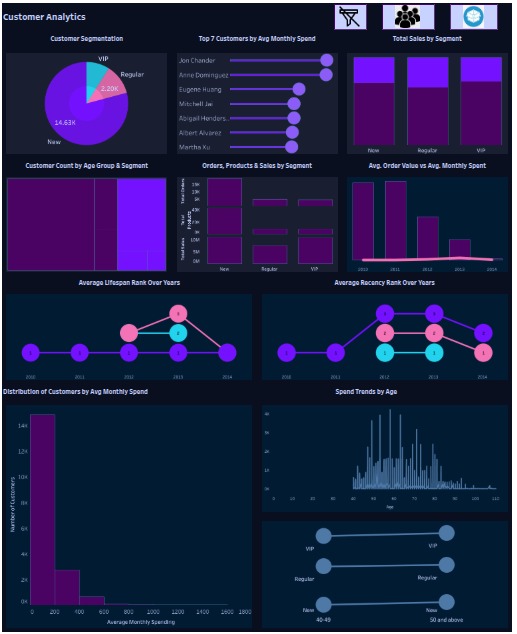

The page's visual inventory and layout, read from the dashboard file:
{"tool":"tableau","page":{"name":"Customer Analytics","canvas":[1000,1000],"units":"permille","ordinal":0},"visuals":[{"type":"text","box":[27.2,23.7,612.3,45.7]},{"type":"dashboard-object","box":[639.5,23.7,66,45.7]},{"type":"blank","box":[705.6,23.7,22.8,45.7]},{"type":"dashboard-object","box":[728.4,23.7,103.1,45.7]},{"type":"blank","box":[831.5,23.7,24.1,45.7]},{"type":"dashboard-object","box":[855.6,23.7,92.6,45.7]},{"type":"text","box":[725.9,25.8,243.2,28]},{"type":"text","box":[725.9,53.8,243.2,23.7]},{"type":"text","box":[27.2,69.4,315.4,28]},{"type":"text","box":[342.6,69.4,315.4,28]},{"type":"text","box":[658,69.4,314.8,28]},{"type":"filter","title":"Total Sales by Customer Segment","param":"[federated.0bdxgvo0l8nm6h0zmc07n1xj7t6c].[none:age_group:nk]","box":[725.9,77.4,243.2,37.6]},{"type":"worksheet","title":"Customer Segmentation by Membership","mark":"Pie","cols":["Calculation_0427751633473537","Calculation_0427751633473537"],"box":[27.2,97.3,315.4,178.5]},{"type":"worksheet","title":"Top 7 Customers with  Highest Lifespan","mark":"Bar","rows":["customer_key","customer_name"],"cols":["avg_monthly_spend","avg_monthly_spend"],"box":[342.6,97.3,315.4,178.5]},{"type":"worksheet","title":"Total Sales by Customer Segment","mark":"Automatic","cols":["customer_segment"],"box":[658,97.3,314.8,178.5]},{"type":"filter","title":"Total Sales by Customer Segment","param":"[federated.0bdxgvo0l8nm6h0zmc07n1xj7t6c].[none:customer_segment:nk]","box":[725.9,115,243.2,48.4]},{"type":"blank","box":[725.9,163.4,243.2,17.2]},{"type":"text","box":[725.9,180.6,243.2,18.3]},{"type":"filter","title":"Total Sales by Customer Segment","param":"[federated.0bdxgvo0l8nm6h0zmc07n1xj7t6c].[yr:last_order_date:ok]","box":[725.9,198.9,243.2,69.4]},{"type":"text","box":[27.2,275.8,315.4,22]},{"type":"text","box":[342.6,275.8,315.4,22]},{"type":"text","box":[658,275.8,314.8,22]},{"type":"worksheet","title":"Tree Map Count of Customers","mark":"Automatic","box":[27.2,297.9,315.4,167.7]},{"type":"worksheet","title":"Total Orders Products and Sales Per Customer Segment","mark":"Automatic","rows":["total_orders","total_products","total_sales"],"cols":["customer_segment"],"box":[342.6,297.9,315.4,167.7]},{"type":"worksheet","title":"Average Order Value By Last Year Order Date","mark":"Bar","rows":["avg_order_value","avg_monthly_spend"],"cols":["last_order_date"],"box":[658,297.9,314.8,167.7]},{"type":"text","box":[27.2,465.6,472.8,21]},{"type":"text","box":[500,465.6,472.8,21]},{"type":"worksheet","title":"Recency ","mark":"Automatic","rows":["recency","recency"],"cols":["last_order_date"],"box":[27.2,486.6,472.8,152.7]},{"type":"worksheet","title":"Lifespan","mark":"Automatic","rows":["lifespan","lifespan"],"cols":["last_order_date"],"box":[500,486.6,472.8,152.7]},{"type":"text","box":[27.2,639.2,404.3,25.8]},{"type":"text","box":[431.4,639.2,541.4,25.8]},{"type":"worksheet","title":"Customer Distribution By Avg Monthly Spend","mark":"Automatic","rows":["Calculation_0707302199398403"],"cols":["Average Monthly Spend Per Customer (bin)"],"box":[27.2,665.1,472.8,311.3]},{"type":"worksheet","title":"Avgerage Monthly Spending By Age","mark":"Line","rows":["avg_monthly_spend"],"cols":["age"],"box":[500,665.1,472.8,155.9]},{"type":"worksheet","title":"Average Monthly Spend per Age Group","mark":"Line","rows":["avg_monthly_spend","avg_monthly_spend"],"cols":["age_group"],"box":[500,821,472.8,155.4]}]}

Visuals, with their boxes on the dashboard's canvas, which has no fixed pixel size, in thousandths of its width and height (x1, y1, x2, y2). These are canvas units, not pixel positions in the 517x634 screenshot, which may show the page scaled, cropped or inside an application window:
text: bbox=[27, 24, 640, 69]
dashboard-object: bbox=[640, 24, 706, 69]
blank: bbox=[706, 24, 728, 69]
dashboard-object: bbox=[728, 24, 832, 69]
blank: bbox=[832, 24, 856, 69]
dashboard-object: bbox=[856, 24, 948, 69]
text: bbox=[726, 26, 969, 54]
text: bbox=[726, 54, 969, 78]
text: bbox=[27, 69, 343, 97]
text: bbox=[343, 69, 658, 97]
text: bbox=[658, 69, 973, 97]
"Total Sales by Customer Segment" filter: bbox=[726, 77, 969, 115]
"Customer Segmentation by Membership" worksheet (Pie marks): bbox=[27, 97, 343, 276]
"Top 7 Customers with  Highest Lifespan" worksheet (Bar marks): bbox=[343, 97, 658, 276]
"Total Sales by Customer Segment" worksheet: bbox=[658, 97, 973, 276]
"Total Sales by Customer Segment" filter: bbox=[726, 115, 969, 163]
blank: bbox=[726, 163, 969, 181]
text: bbox=[726, 181, 969, 199]
"Total Sales by Customer Segment" filter: bbox=[726, 199, 969, 268]
text: bbox=[27, 276, 343, 298]
text: bbox=[343, 276, 658, 298]
text: bbox=[658, 276, 973, 298]
"Tree Map Count of Customers" worksheet: bbox=[27, 298, 343, 466]
"Total Orders Products and Sales Per Customer Segment" worksheet: bbox=[343, 298, 658, 466]
"Average Order Value By Last Year Order Date" worksheet (Bar marks): bbox=[658, 298, 973, 466]
text: bbox=[27, 466, 500, 487]
text: bbox=[500, 466, 973, 487]
"Recency " worksheet: bbox=[27, 487, 500, 639]
"Lifespan" worksheet: bbox=[500, 487, 973, 639]
text: bbox=[27, 639, 432, 665]
text: bbox=[431, 639, 973, 665]
"Customer Distribution By Avg Monthly Spend" worksheet: bbox=[27, 665, 500, 976]
"Avgerage Monthly Spending By Age" worksheet (Line marks): bbox=[500, 665, 973, 821]
"Average Monthly Spend per Age Group" worksheet (Line marks): bbox=[500, 821, 973, 976]
